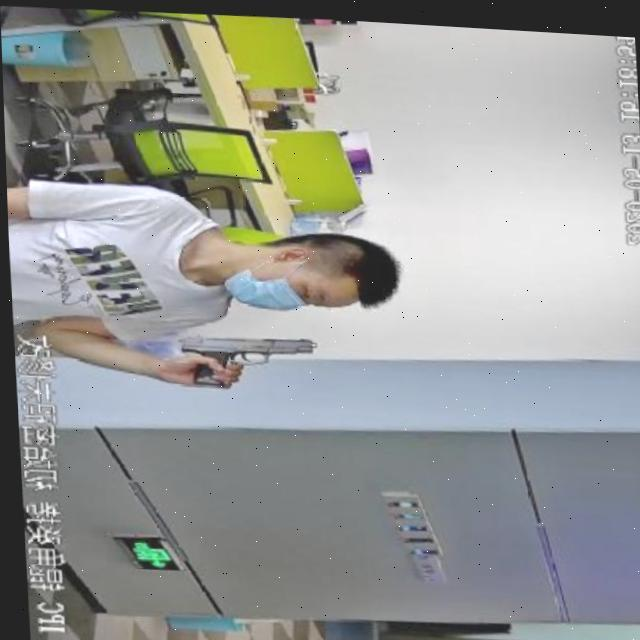gun: (172, 312, 332, 423)
